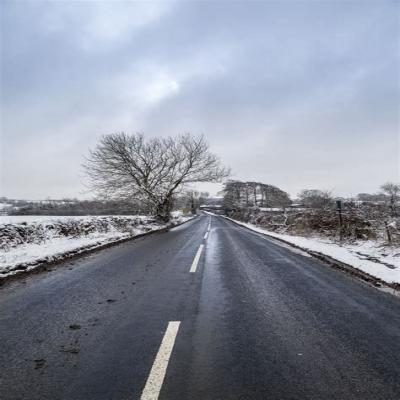iced-road: (1, 214, 400, 400)
